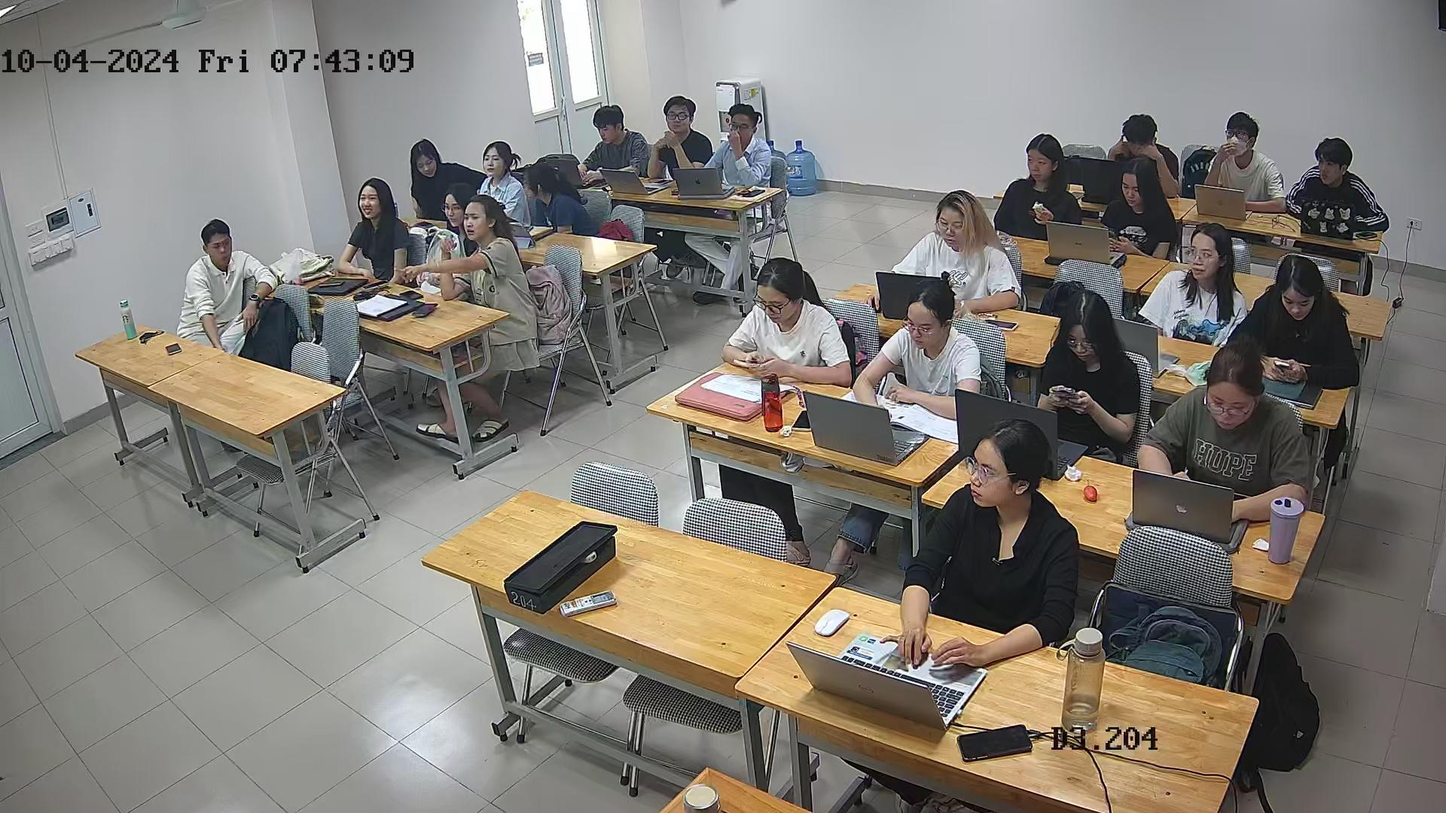Look Around: (185, 214, 274, 326)
phone: (1053, 373, 1094, 413), (733, 346, 777, 373), (1273, 348, 1303, 373), (1109, 218, 1126, 246)
